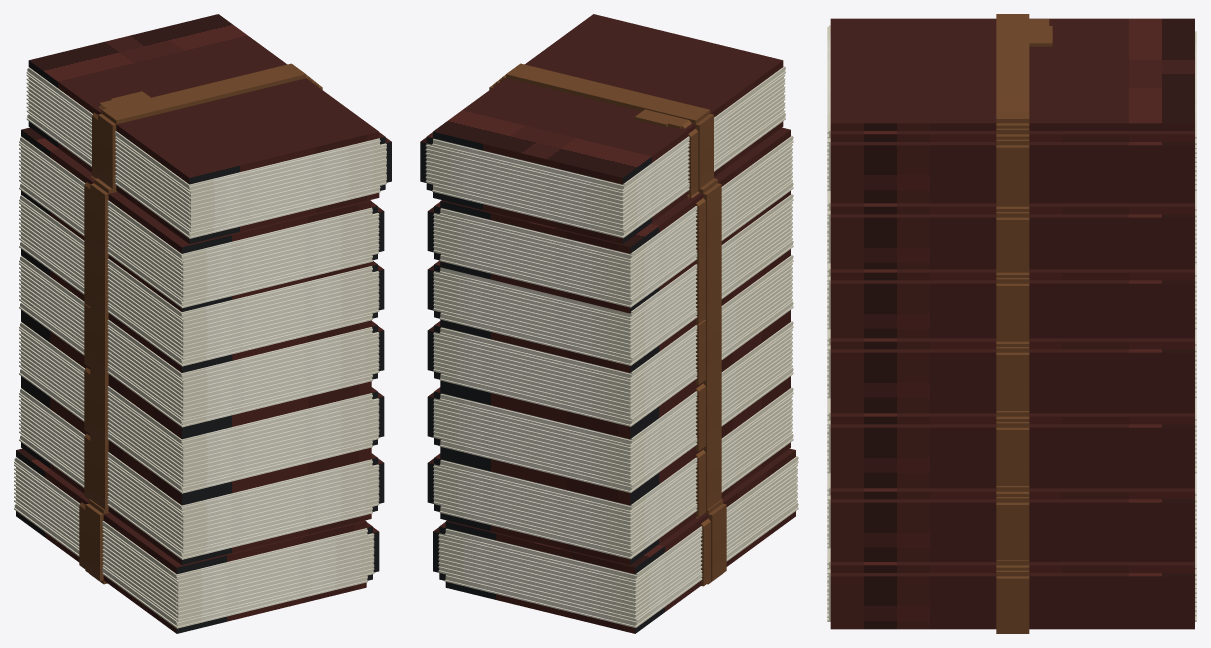
The model's file is stack_of_books_7_5.gltf.
3 renders of one model, left to right at view 1: azimuth 30°, elevation 25°; view 2: azimuth 150°, elevation 25°; view 3: azimuth 270°, elevation 25°, orthographic. The views are drawn at different scales.
Visible parts, largest first — view 1: cube (×248); view 2: cube (×217); view 3: cube (×43).
Part boxes in pixels (box(x1,y1,x2,y2)): cube (×248): box(14, 14, 386, 633); cube (×217): box(425, 14, 798, 633); cube (×43): box(830, 14, 1194, 629).
Size of the model in its own units: 0.55 by 1.09 by 0.6969.
Materials: 3 (3 with a texture image).
